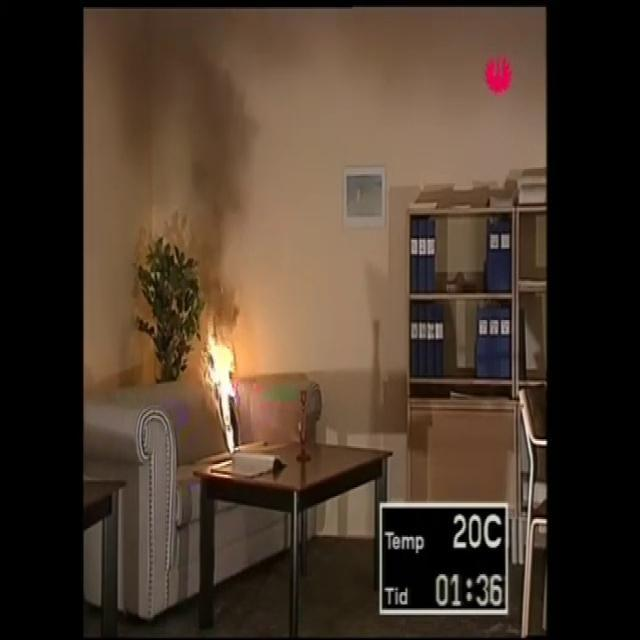Fire: (202, 314, 237, 446)
Smoke: (95, 4, 306, 284)
